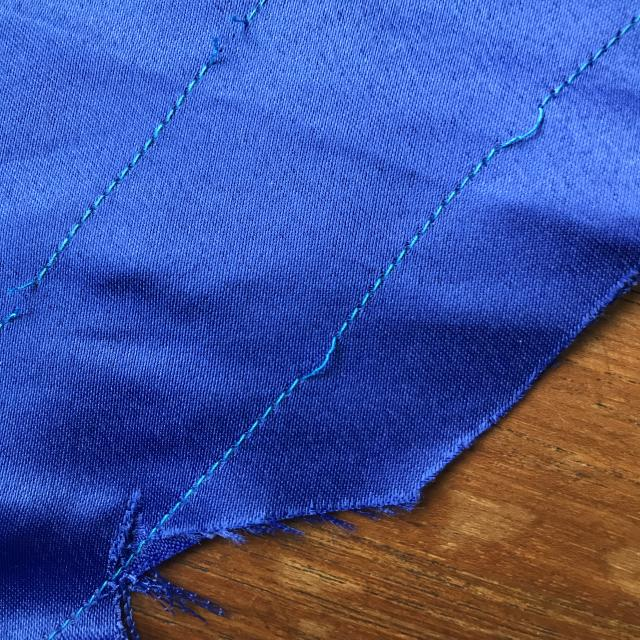broken: (178, 0, 267, 103)
good: (78, 122, 175, 210)
skip: (463, 75, 558, 190), (270, 306, 351, 418)
